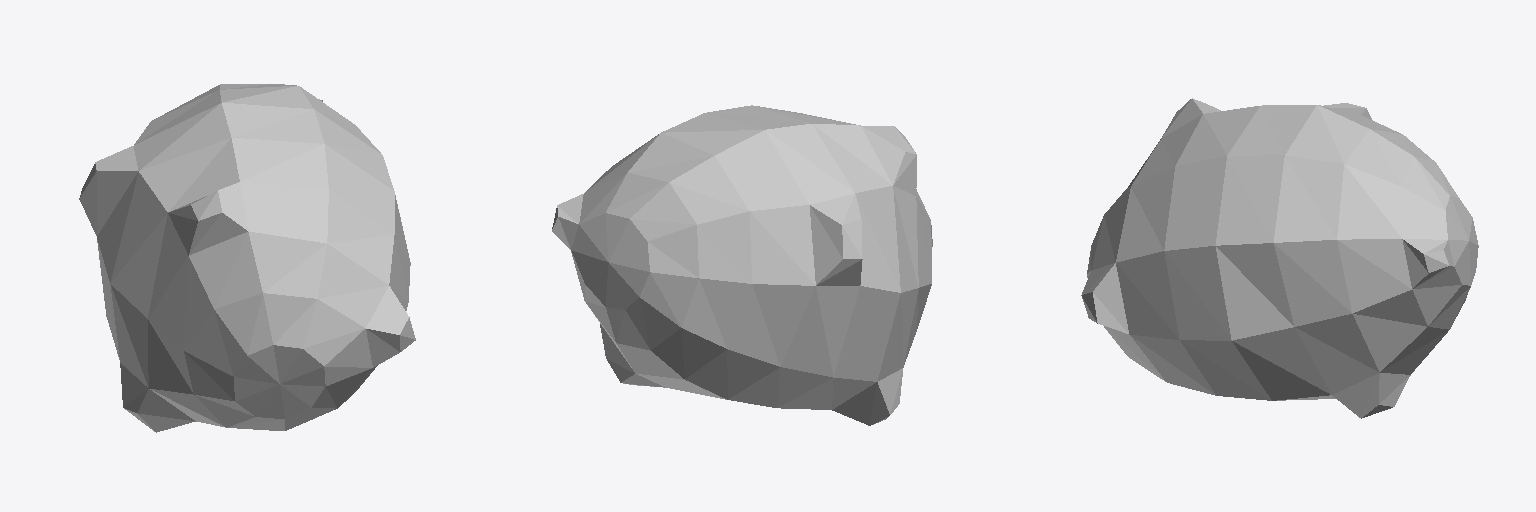
The model's file is EggBody.obj.
3 renders of one model, left to right at view 1: azimuth 30°, elevation 25°; view 2: azimuth 150°, elevation 25°; view 3: azimuth 270°, elevation 25°, orthographic.
Visible parts, largest first — view 1: pSphere1_0; view 2: pSphere1_0; view 3: pSphere1_0.
Boxes of the visible parts, x1,y1,x2,y2 form: pSphere1_0: [79, 84, 415, 432]; pSphere1_0: [552, 105, 932, 425]; pSphere1_0: [1081, 98, 1478, 418].
Size of the model in its own units: 4.12 by 4.06 by 5.09.